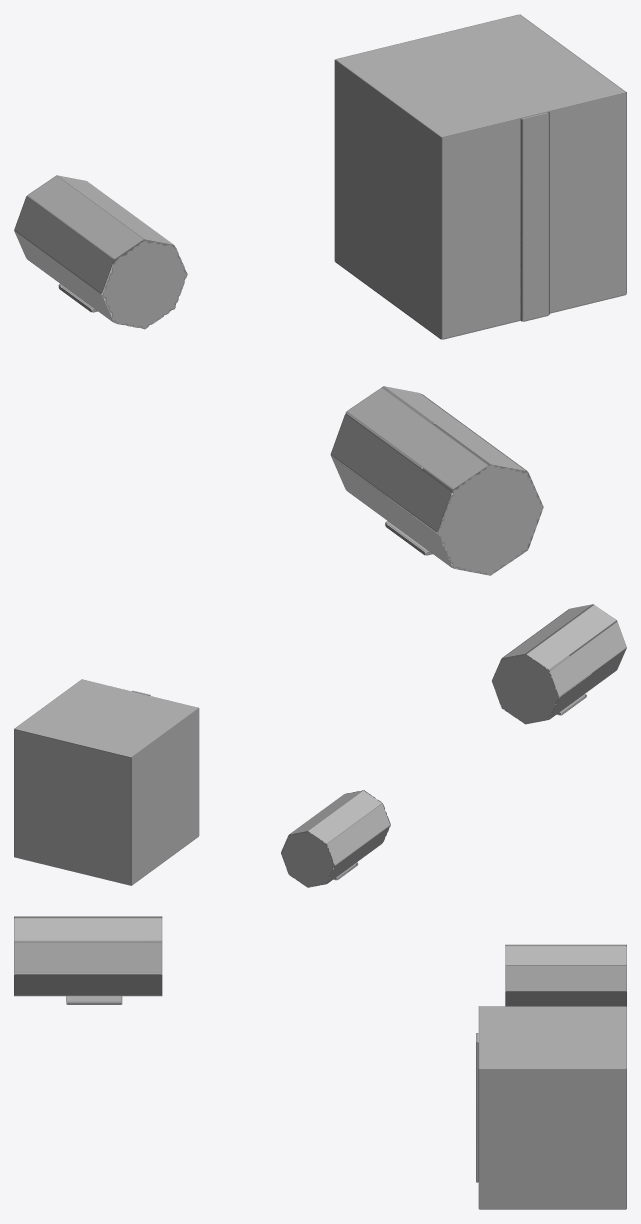
The model's file is contents_books_misc_01_52.obj.
3 views of the same model, one above another, from view 1: azimuth 30°, elevation 25°; view 2: azimuth 150°, elevation 25°; view 3: azimuth 270°, elevation 25° (orthographic). The views are drawn at different scales.
Visible parts, largest first — view 1: contents_books_misc_01_52; view 2: contents_books_misc_01_52; view 3: contents_books_misc_01_52.
Boxes of the visible parts, left/top/right/bottom form: contents_books_misc_01_52: left=14, top=14, right=626, bottom=575; contents_books_misc_01_52: left=14, top=604, right=626, bottom=887; contents_books_misc_01_52: left=14, top=916, right=626, bottom=1209.
Size of the model in its own units: 0.651 by 0.24 by 0.95.
1 material, 1 textured.
